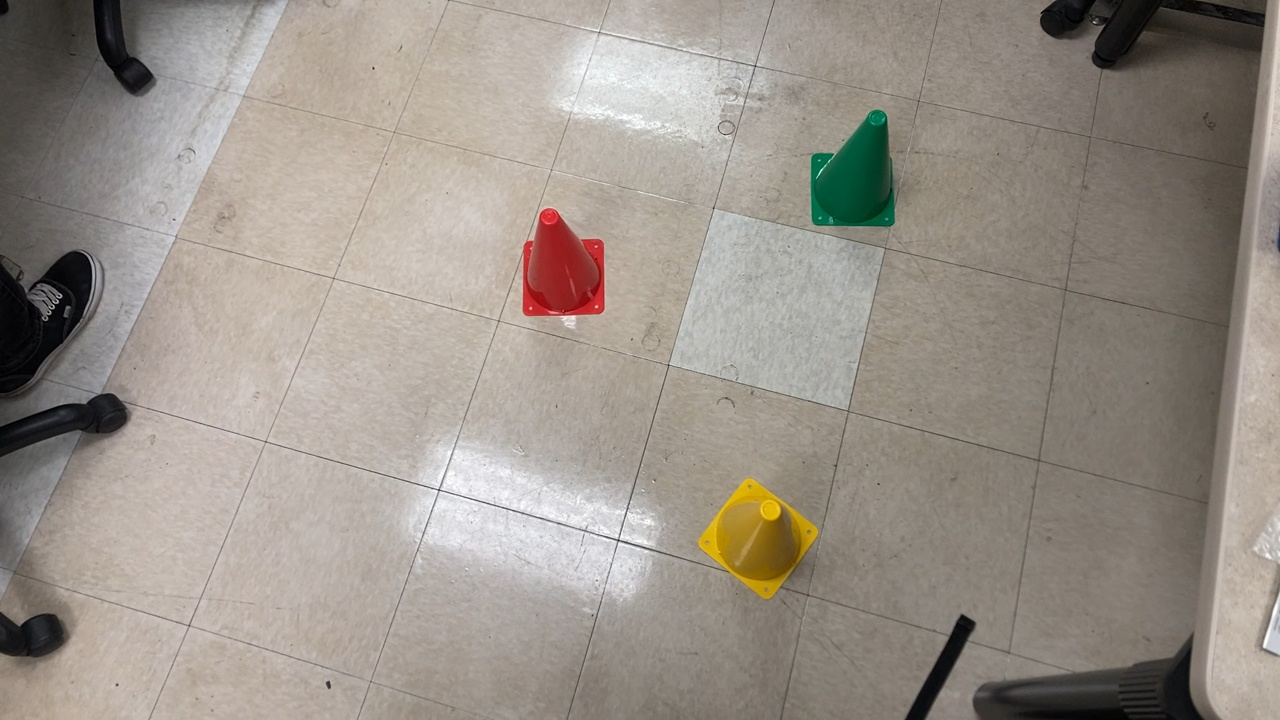green_cone: (806, 105, 902, 234)
red_cone: (519, 205, 611, 321)
yellow_cone: (694, 477, 828, 601)
